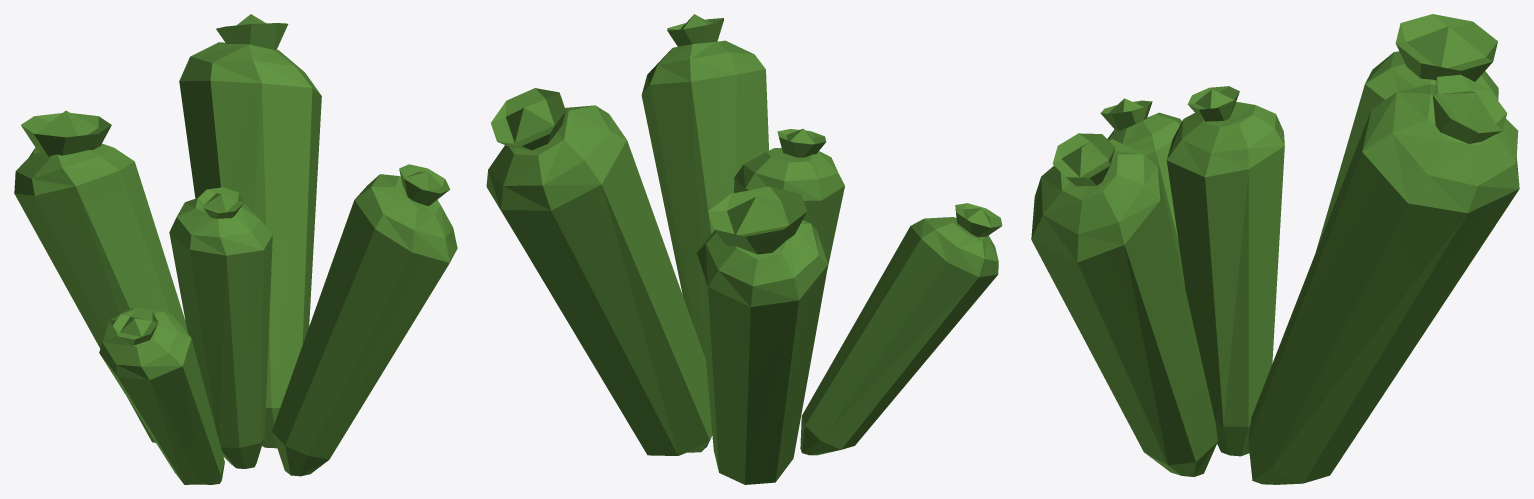
File: 08 Cacktos_2.FBX
The picture shows the model from 3 angles, left to right: view 1: azimuth 30°, elevation 25°; view 2: azimuth 150°, elevation 25°; view 3: azimuth 270°, elevation 25°; orthographic projection. The views are drawn at different scales.
Visible parts, largest first — view 1: Desert_plant_039; view 2: Desert_plant_039; view 3: Desert_plant_039.
Boxes of the visible parts, x1,y1,x2,y2 form: Desert_plant_039: (14,14,457,484); Desert_plant_039: (486,14,1002,484); Desert_plant_039: (1031,14,1519,484).
Size of the model in its own units: 92.47 by 97.36 by 101.
